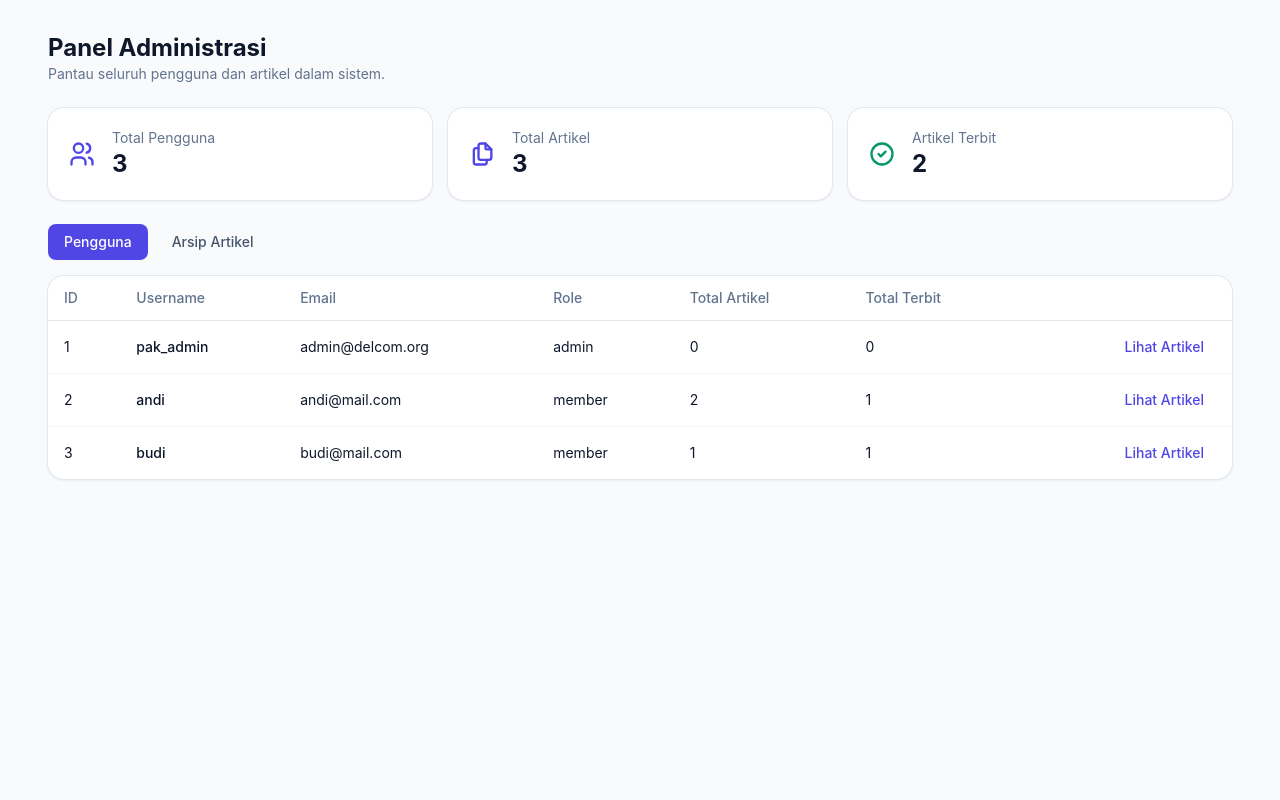
AdminDashboard artikel per pengguna › memuat dan menampilkan artikel milik pengguna lalu bisa ditutup
The width and height of the screenshot is (1280, 800).
Expected: the text "pak_admin" is shown, [120,320,284,374]
Click the button with aria-label "Lihat artikel andi" at [1164, 400], box [1112,386,1216,414]
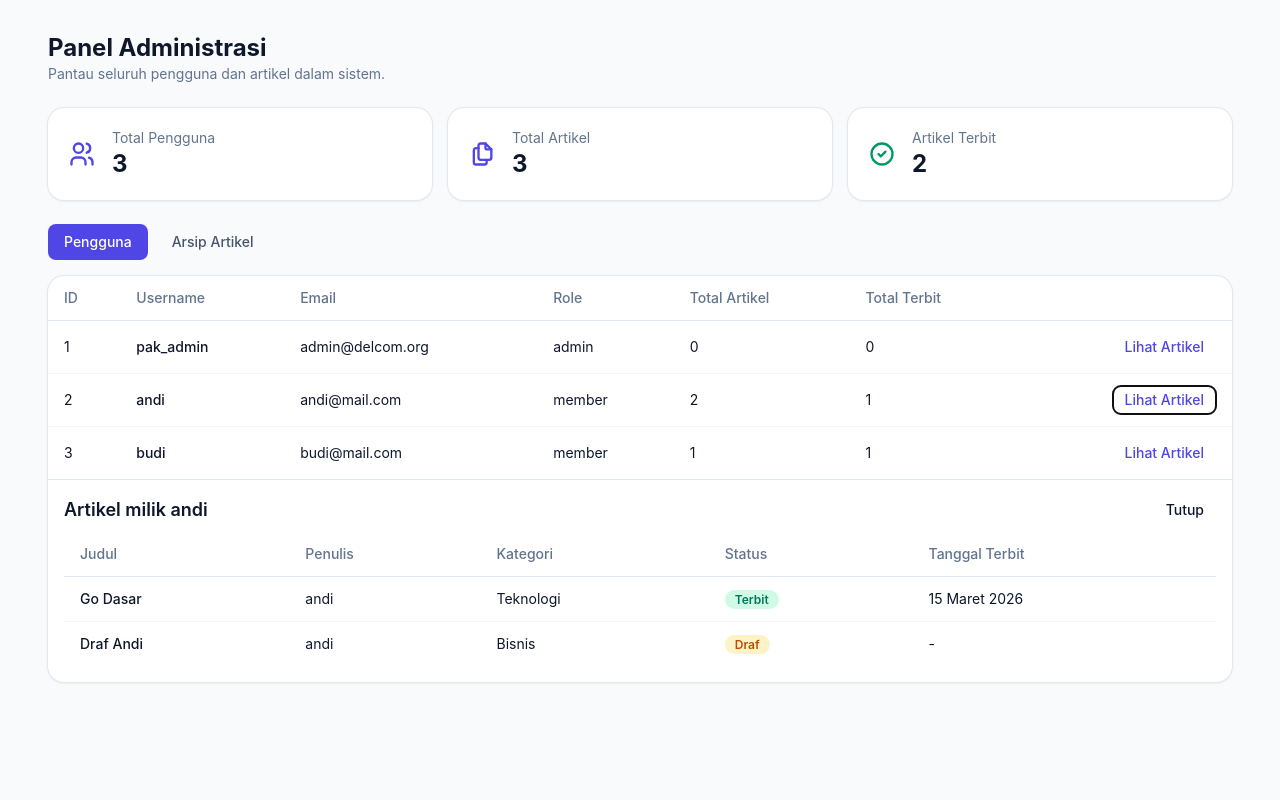
Expected: the text "Go Dasar" is shown, [64,576,289,622]
Expected: the text "Draf Andi" is shown, [64,622,289,666]
Click the button "Tutup" at [1185, 510], box [1154,496,1216,524]
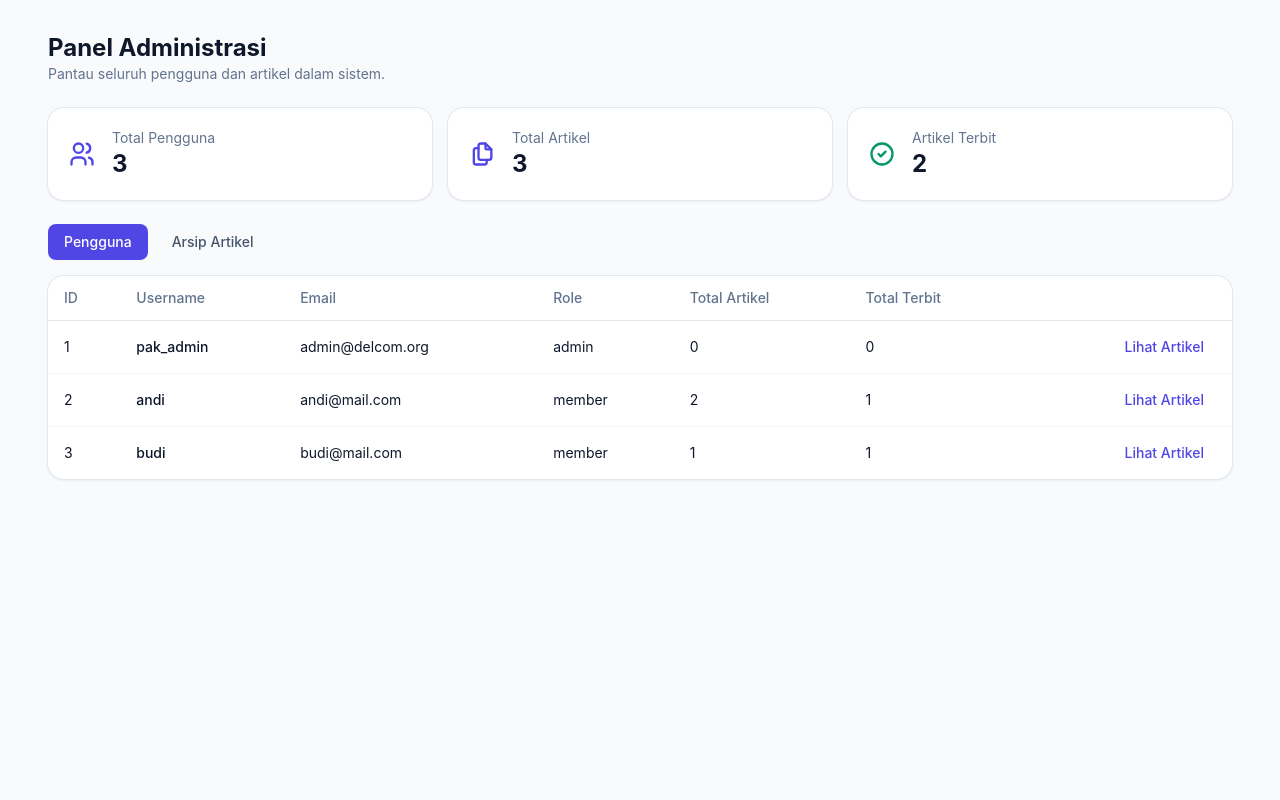
Expected: the heading "Artikel milik andi" is gone
